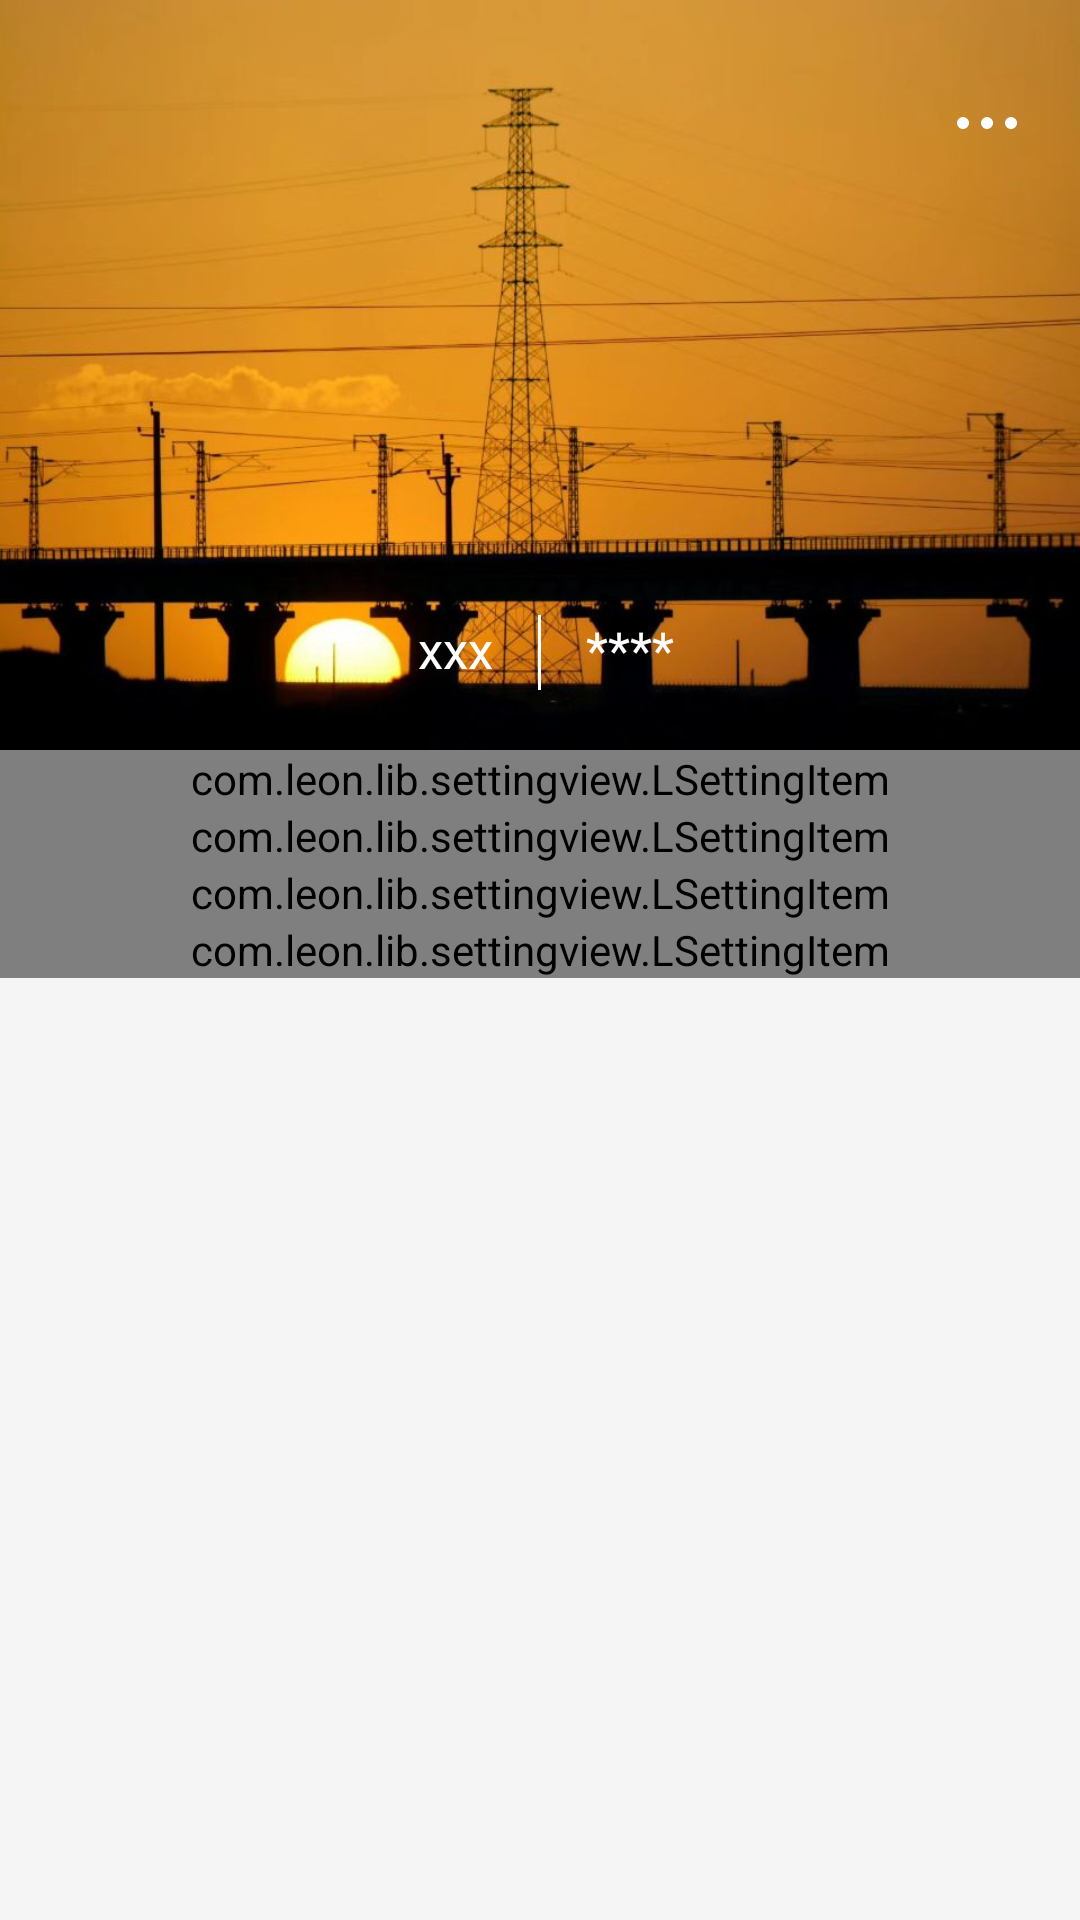

Screen size 1080w x 1920h. Icon name, then its box in pixels as rect(x1, y1, x2, y2):
more: rect(957, 117, 1017, 129)
